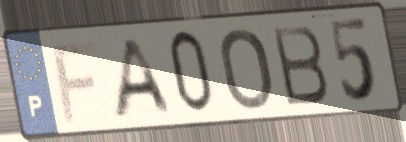0: (165, 26, 218, 120)
5: (327, 13, 383, 107)
A: (110, 35, 177, 122)
B: (268, 22, 332, 109)
F: (48, 37, 101, 126)
O: (217, 25, 276, 113)
